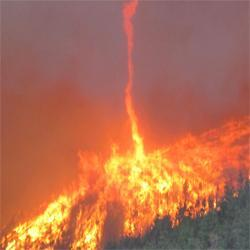fire: (114, 156, 180, 208), (35, 200, 74, 231)
